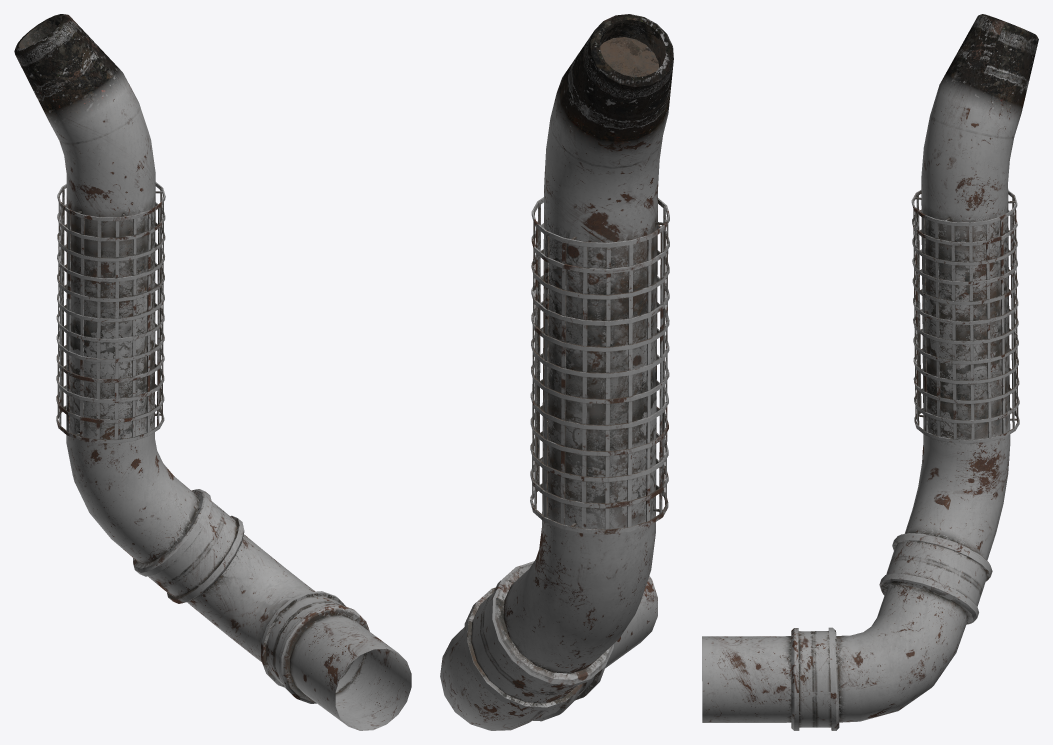
The model's file is Prop_Exhaust_American.fbx.
The picture shows the model from 3 angles, left to right: view 1: azimuth 30°, elevation 25°; view 2: azimuth 150°, elevation 25°; view 3: azimuth 270°, elevation 25°; orthographic projection. The views are drawn at different scales.
Visible parts, largest first — view 1: Prop_Exhaust_American; view 2: Prop_Exhaust_American; view 3: Prop_Exhaust_American.
Boxes of the visible parts, x1,y1,x2,y2 form: Prop_Exhaust_American: (14,14,411,730); Prop_Exhaust_American: (440,14,673,730); Prop_Exhaust_American: (702,14,1038,730).
Bounding box in the file's own units: 74.14 × 187 × 90.08.
